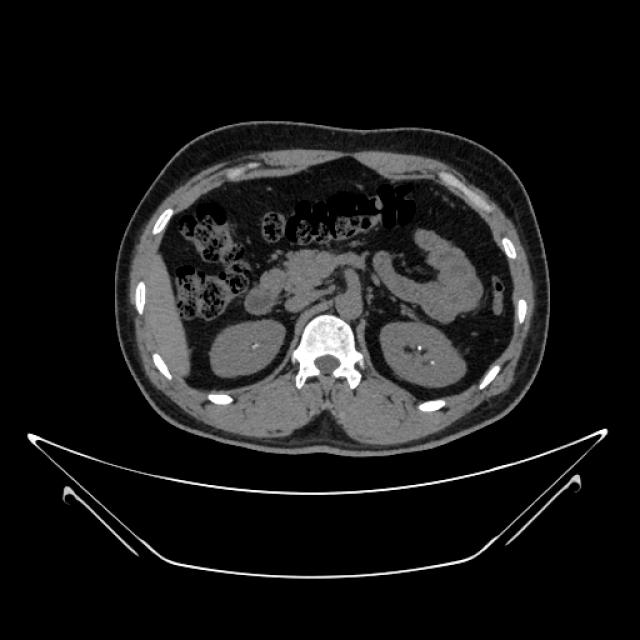kidneystone: (418, 344, 422, 352)
